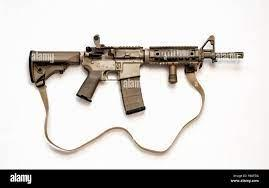larga: (29, 34, 245, 115)
